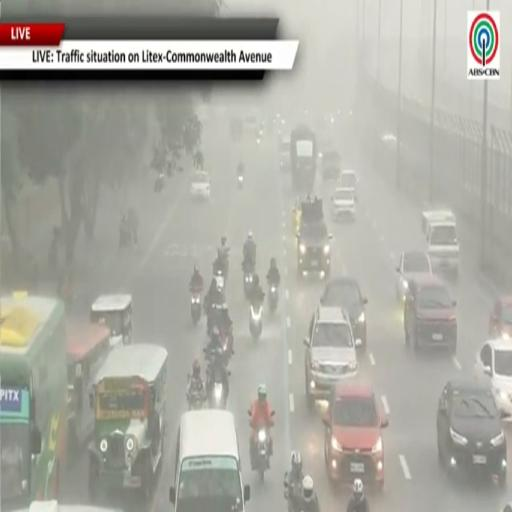bus: (0, 293, 67, 511)
car: (437, 378, 507, 486), (323, 382, 387, 489), (304, 307, 357, 409), (404, 274, 457, 354), (320, 277, 367, 353), (474, 339, 511, 419), (297, 199, 332, 278), (427, 220, 459, 278), (396, 251, 432, 302), (489, 296, 511, 339), (422, 208, 456, 234), (331, 187, 356, 220), (321, 147, 341, 180), (338, 170, 358, 200), (191, 171, 210, 200), (279, 136, 290, 171), (502, 502, 511, 511)
jeepney: (89, 344, 167, 502), (66, 320, 110, 459), (90, 294, 132, 346), (16, 501, 121, 511), (293, 198, 301, 236)
motorcycle: (254, 428, 269, 482), (249, 303, 262, 341), (209, 382, 226, 408), (220, 330, 233, 364), (191, 291, 202, 326), (119, 224, 132, 249), (189, 392, 205, 410), (268, 285, 278, 313), (215, 269, 225, 294), (244, 272, 253, 299), (237, 175, 244, 190)
truck: (290, 125, 317, 194)
